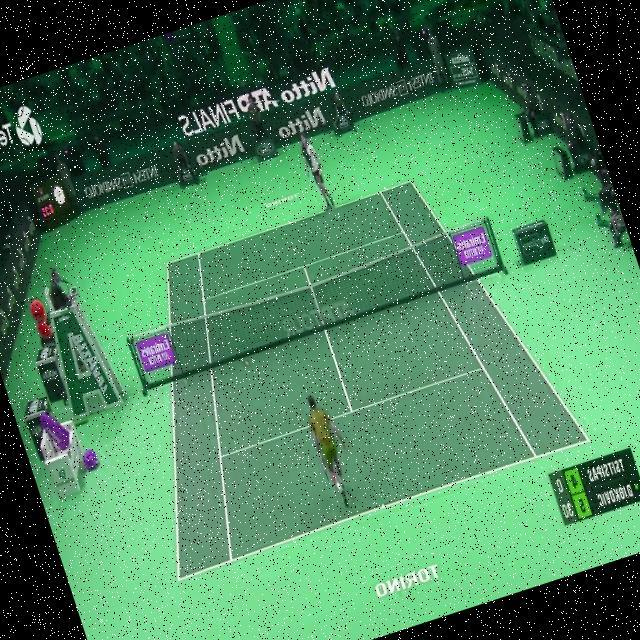court: (81, 152, 594, 583)
net: (124, 214, 508, 393)
player: (300, 388, 366, 512)
